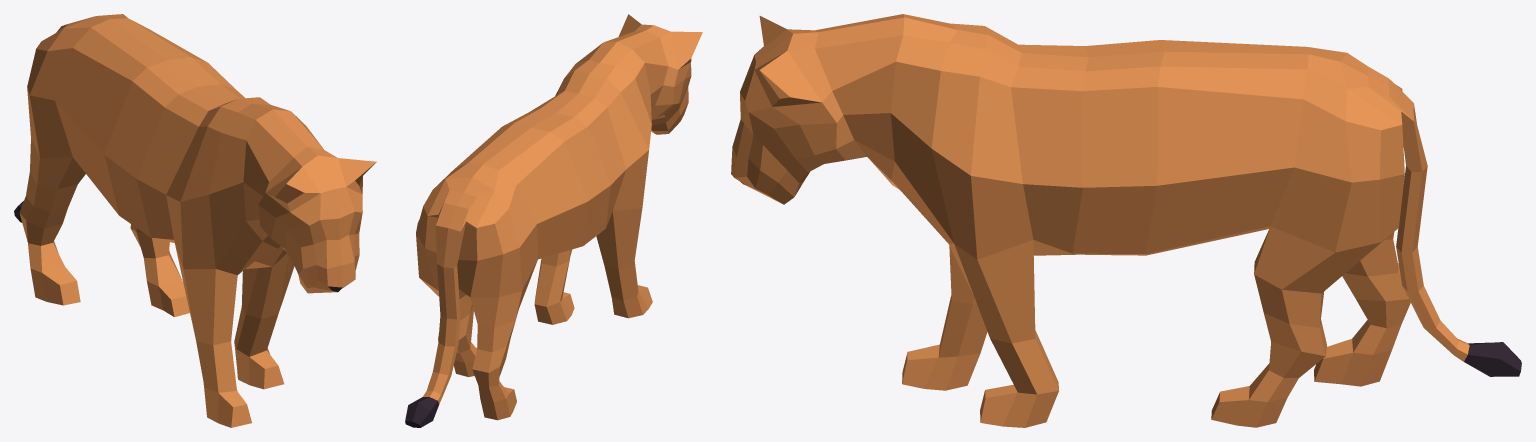
The model's file is Löwin1.fbx.
The picture shows the model from 3 angles, left to right: view 1: azimuth 30°, elevation 25°; view 2: azimuth 150°, elevation 25°; view 3: azimuth 270°, elevation 25°; orthographic projection. The views are drawn at different scales.
Parts seen in each view (by area): view 1: Löwin.001; view 2: Löwin.001; view 3: Löwin.001.
Part boxes in pixels (bbox=[...]): Löwin.001: bbox=[14, 14, 376, 427]; Löwin.001: bbox=[405, 14, 702, 427]; Löwin.001: bbox=[731, 14, 1521, 427].
Bounding box in the file's own units: 0.6506 × 1.46 × 2.73.
